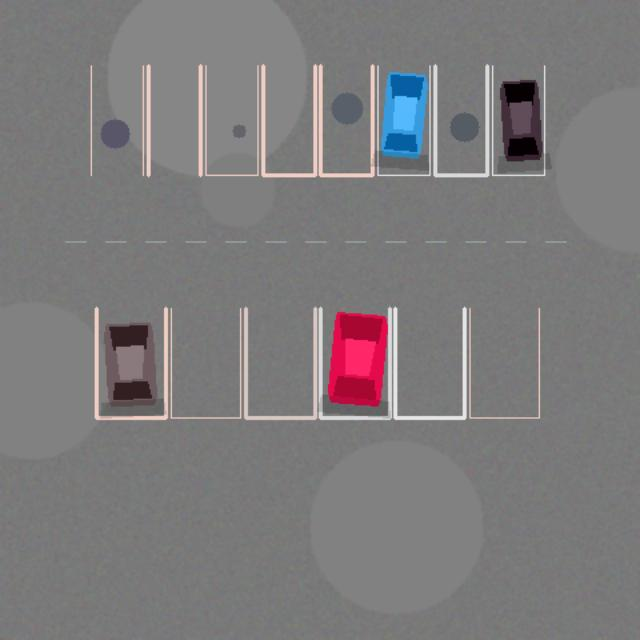space-empty: (245, 308, 315, 417), (469, 308, 539, 417), (171, 308, 240, 417), (395, 308, 464, 417), (91, 65, 143, 175), (148, 65, 200, 175), (205, 65, 257, 175), (263, 65, 315, 175), (320, 65, 372, 175), (435, 65, 487, 175)
space-occupied: (96, 308, 165, 417), (320, 308, 389, 417), (377, 65, 429, 175), (492, 65, 544, 175)
